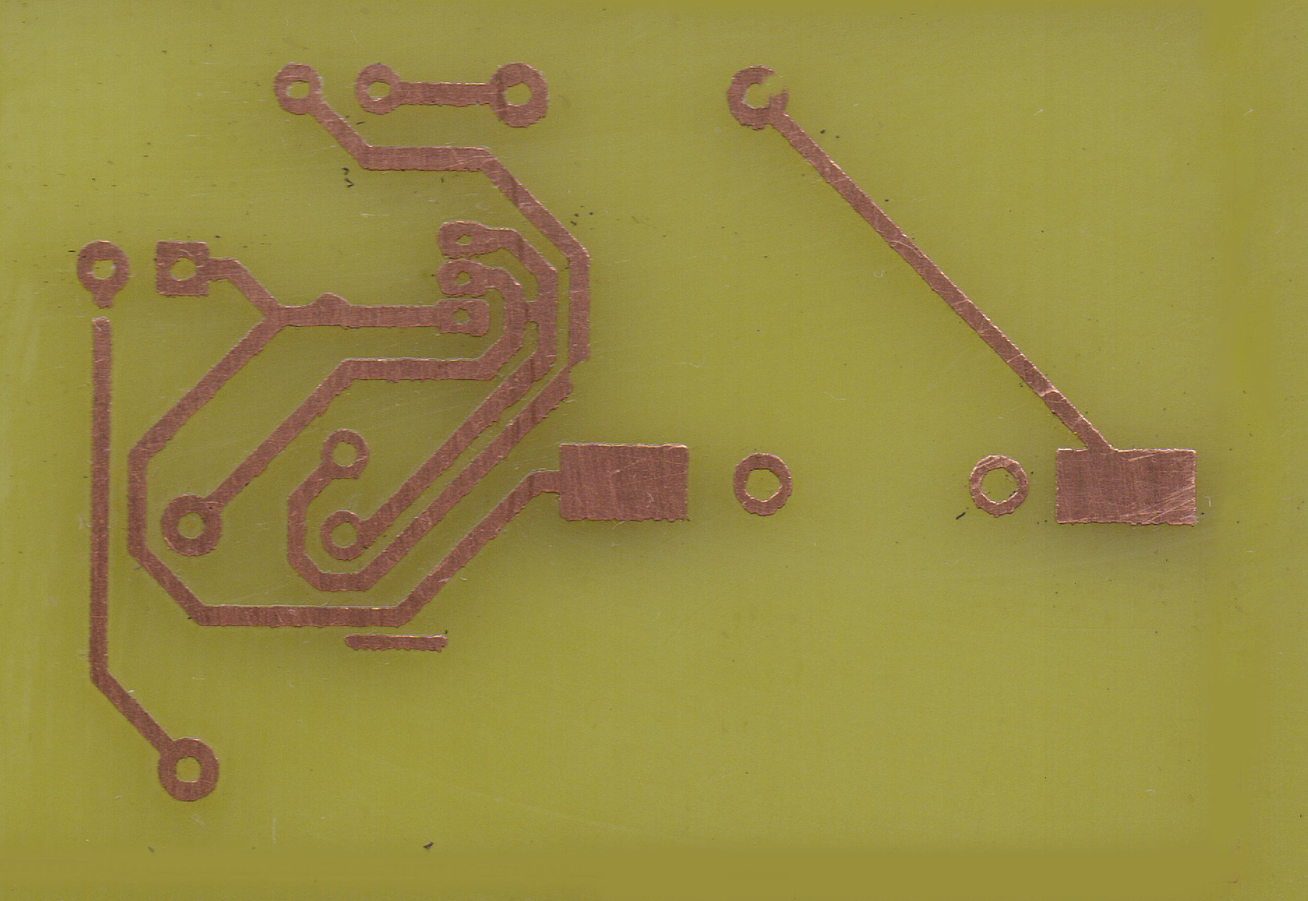missing_hole: (725, 61, 791, 133)
mouse_bite: (560, 353, 596, 391)
open_circuit: (85, 294, 119, 326)
short: (499, 292, 562, 331)
spur: (307, 289, 358, 336)
spurious_copper: (337, 633, 459, 658)
